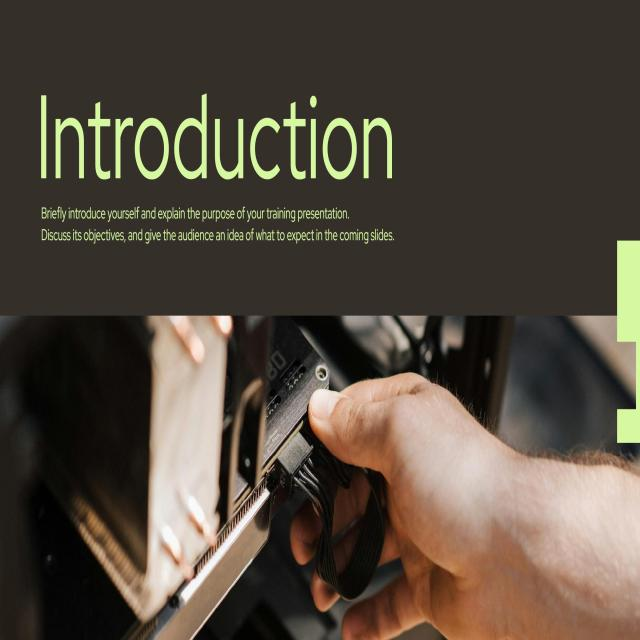image: (0, 312, 640, 639)
text: (34, 203, 397, 258)
title: (30, 92, 398, 196)
